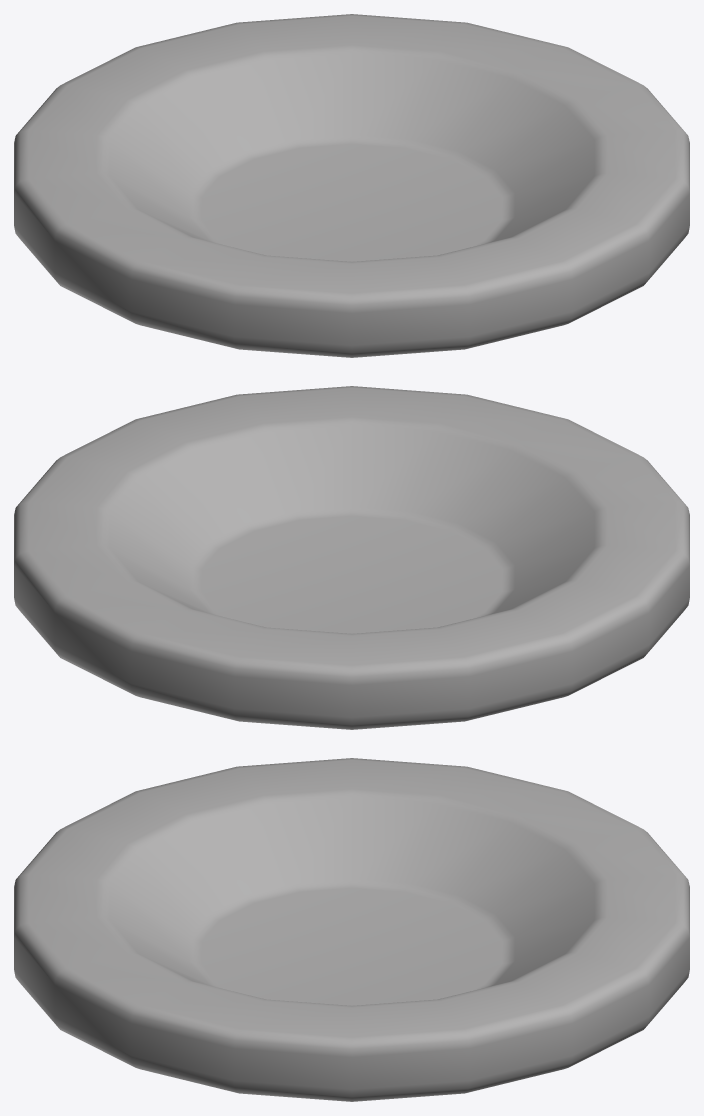
File: Plate.FBX
3 views of the same model, one above another, from view 1: azimuth 30°, elevation 25°; view 2: azimuth 150°, elevation 25°; view 3: azimuth 270°, elevation 25° (orthographic).
Visible parts, largest first — view 1: Plate; view 2: Plate; view 3: Plate.
Boxes of the visible parts, x1,y1,x2,y2 form: Plate: (14,14,689,357); Plate: (14,386,689,729); Plate: (14,758,689,1101).
Bounding box in the file's own units: 5.67 × 0.9278 × 5.58.
